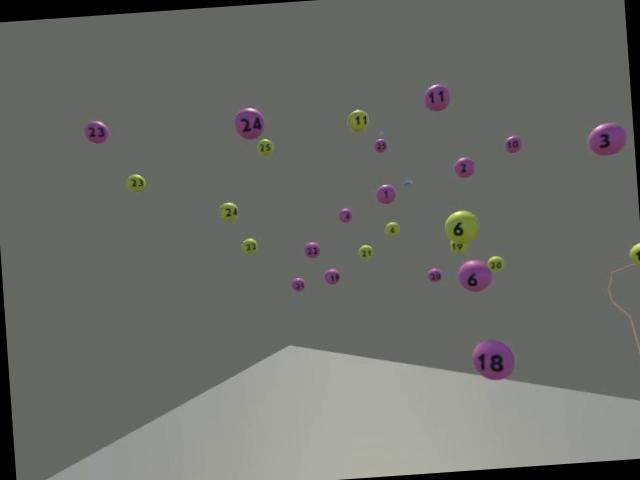ball_01_pink: (374, 183, 396, 203)
ball_02_pink: (452, 156, 474, 177)
ball_03_pink: (586, 120, 626, 156)
ball_04_pink: (338, 208, 352, 224)
ball_04_yellow: (383, 220, 400, 236)
ball_06_pink: (457, 259, 492, 292)
ball_06_yellow: (442, 208, 480, 244)
ball_10_pink: (503, 134, 521, 152)
ball_11_pink: (422, 82, 450, 110)
ball_11_yellow: (346, 108, 368, 132)
ball_18_pink: (470, 338, 516, 381)
ball_19_pink: (324, 267, 341, 285)
ball_19_yellow: (448, 239, 467, 253)
ball_20_pink: (426, 266, 441, 282)
ball_20_yellow: (486, 254, 504, 270)
ball_21_pink: (290, 276, 305, 291)
ball_21_yellow: (357, 243, 372, 260)
ball_22_pink: (303, 240, 319, 257)
ball_22_yellow: (240, 236, 256, 253)
ball_23_pink: (82, 119, 109, 143)
ball_23_yellow: (124, 174, 146, 192)
ball_24_pink: (232, 106, 264, 139)
ball_24_yellow: (217, 201, 237, 221)
ball_25_pink: (372, 138, 387, 152)
ball_25_yellow: (255, 137, 273, 156)
ball_unknown: (626, 241, 640, 265)
